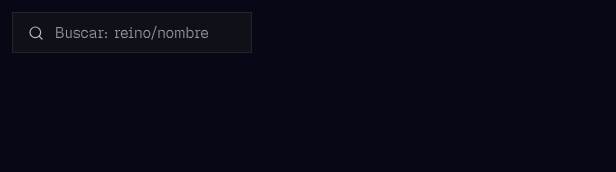
Test: QuickSearch › reports invalid field formats inside the query
The width and height of the screenshot is (616, 172).
Type "grobbulus/billie moi" into the field named "Buscar personaje".
click(132, 32); type("grobbulus/billie moi")  # box [12,12,252,53]
Then press Enter
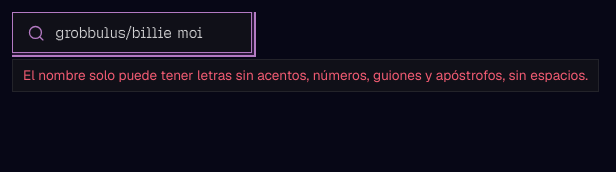
Result: the message shows "sin espacios" at [23,66,588,84]
